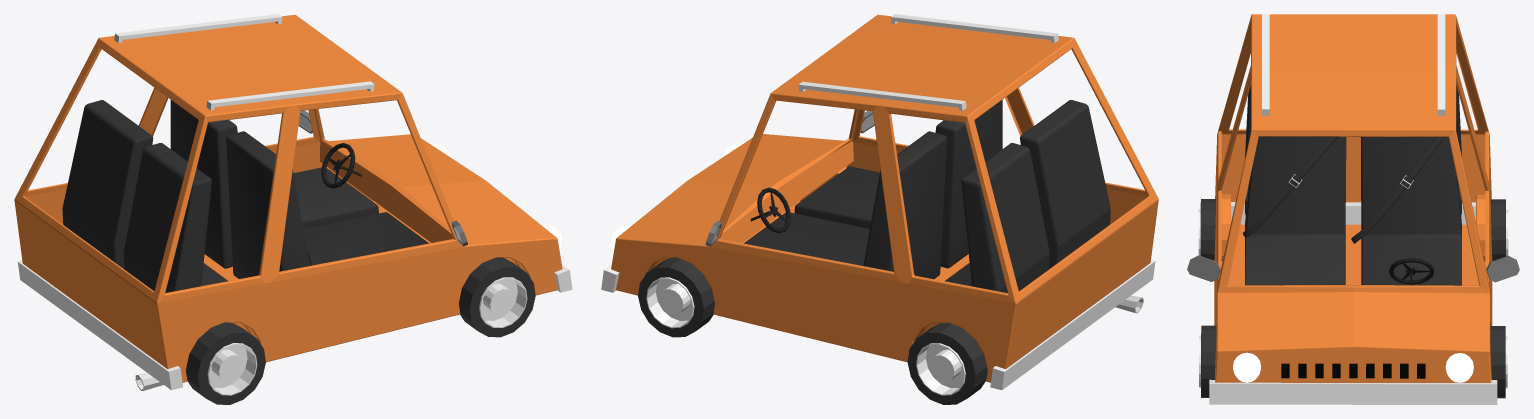
Rendered from car.glb.
The picture shows the model from 3 angles, left to right: view 1: azimuth 30°, elevation 25°; view 2: azimuth 150°, elevation 25°; view 3: azimuth 270°, elevation 25°; orthographic projection. The views are drawn at different scales.
Visible parts, largest first — view 1: Cube_0, Cube.008_12, Cube.011_15, Cube.010_14, Cube.009_13, Cylinder.001_4, Cylinder.003_3, Cube.002_2, Cube.003_7, Cube.004_8, Torus_19; view 2: Cube_0, Cube.009_13, Cube.010_14, Cube.011_15, Cube.008_12, Cylinder.004_6, Cylinder.002_5, Cube.002_2, Cube.004_8, Cube.003_7, Torus_19; view 3: Cube_0, Cube.008_12, Cube.009_13, Cube.001_1, Cube.007_11, Cylinder.002_5, Cylinder.003_3, Cylinder.004_6, Cylinder.001_4, Plane_21, Plane.001_22, Cube.004_8 (+9 smaller).
Part boxes in pixels (x1=…): Cube_0: x1=14, y1=15, x2=562, y2=382; Cube.008_12: x1=226, y1=131, x2=428, y2=278; Cube.011_15: x1=62, y1=100, x2=153, y2=268; Cube.010_14: x1=123, y1=143, x2=227, y2=292; Cube.009_13: x1=170, y1=100, x2=378, y2=268; Cylinder.001_4: x1=186, y1=322, x2=265, y2=404; Cylinder.003_3: x1=458, y1=257, x2=535, y2=337; Cube.002_2: x1=18, y1=260, x2=182, y2=390; Cube.003_7: x1=206, y1=81, x2=374, y2=110; Cube.004_8: x1=114, y1=14, x2=282, y2=42; Torus_19: x1=321, y1=143, x2=361, y2=188; Cube_0: x1=611, y1=14, x2=1158, y2=382; Cube.009_13: x1=744, y1=131, x2=947, y2=279; Cube.010_14: x1=1020, y1=100, x2=1110, y2=268; Cube.011_15: x1=945, y1=143, x2=1049, y2=292; Cube.008_12: x1=794, y1=100, x2=1002, y2=268; Cylinder.004_6: x1=907, y1=322, x2=987, y2=404; Cylinder.002_5: x1=638, y1=257, x2=714, y2=337; Cube.002_2: x1=990, y1=259, x2=1155, y2=390; Cube.004_8: x1=798, y1=81, x2=966, y2=110; Cube.003_7: x1=890, y1=14, x2=1058, y2=42; Torus_19: x1=750, y1=187, x2=790, y2=233; Cube_0: x1=1214, y1=14, x2=1492, y2=382; Cube.008_12: x1=1245, y1=136, x2=1346, y2=285; Cube.009_13: x1=1360, y1=137, x2=1461, y2=285; Cube.001_1: x1=1209, y1=379, x2=1497, y2=404; Cube.007_11: x1=1281, y1=363, x2=1425, y2=378; Cylinder.002_5: x1=1490, y1=326, x2=1507, y2=398; Cylinder.003_3: x1=1199, y1=325, x2=1216, y2=397; Cylinder.004_6: x1=1490, y1=199, x2=1508, y2=260; Cylinder.001_4: x1=1198, y1=199, x2=1215, y2=260; Plane_21: x1=1351, y1=137, x2=1444, y2=243; Plane.001_22: x1=1242, y1=136, x2=1338, y2=236; Cube.004_8: x1=1437, y1=14, x2=1445, y2=115.
Bounding box in the file's own units: 3.38 × 2.12 × 2.44.
